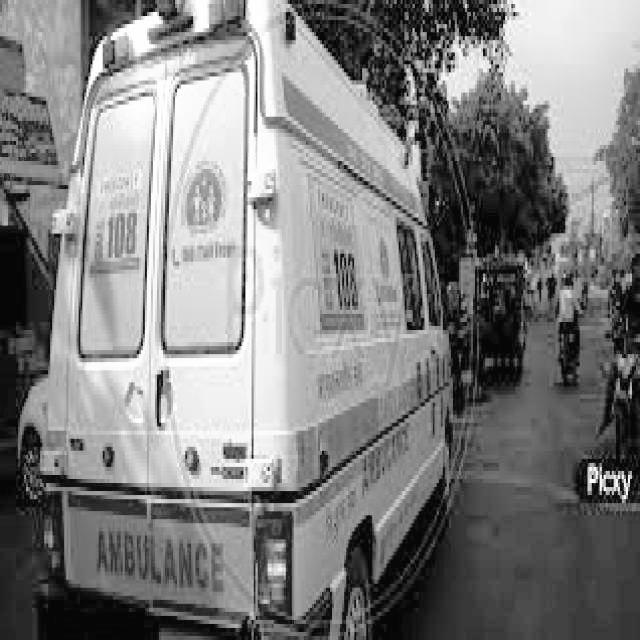LCV: (47, 0, 285, 621)
